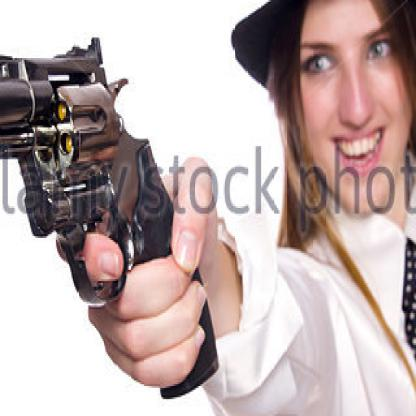gun: (0, 17, 225, 414)
